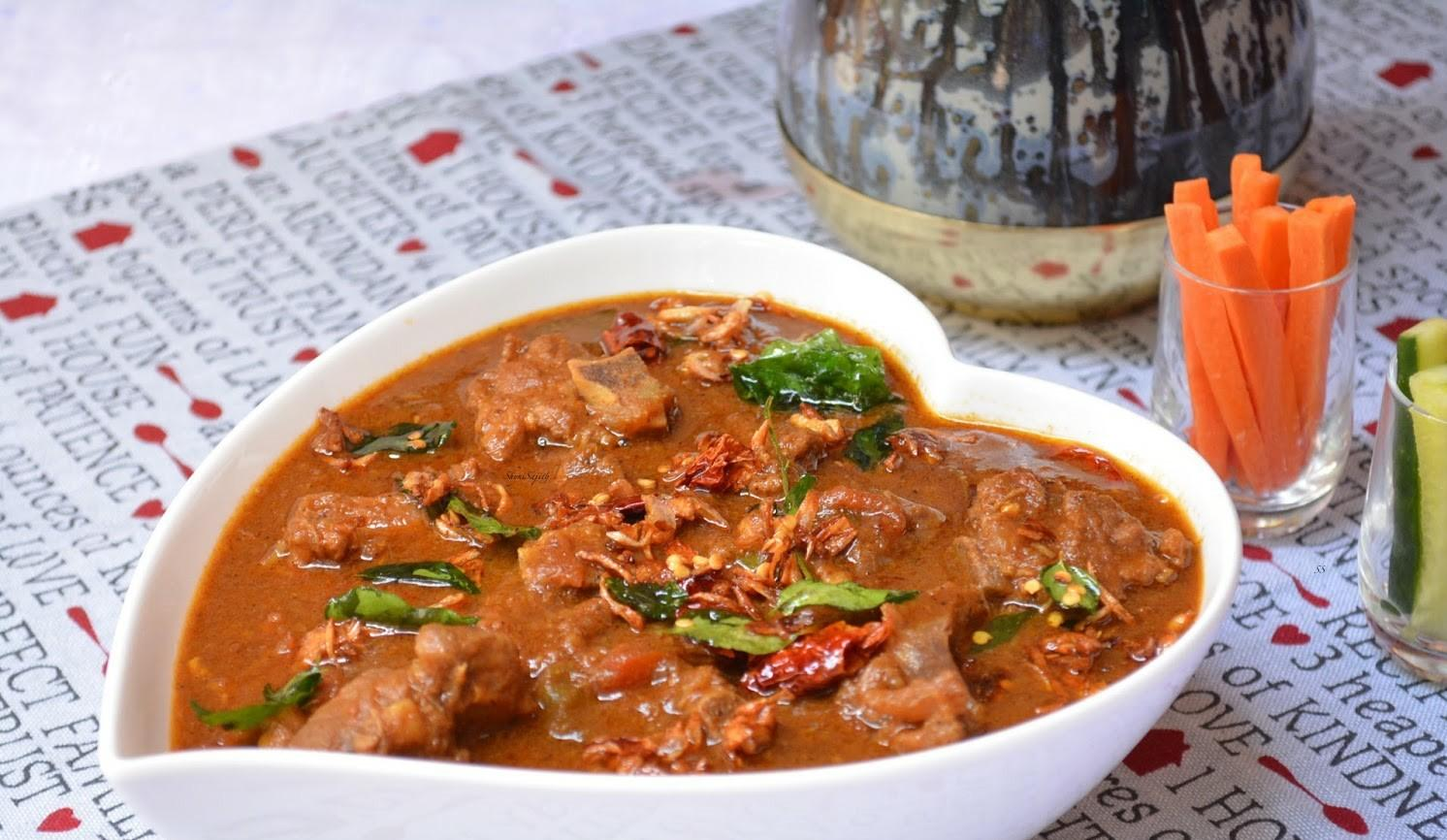MuttonCurry: (165, 298, 1200, 840)
